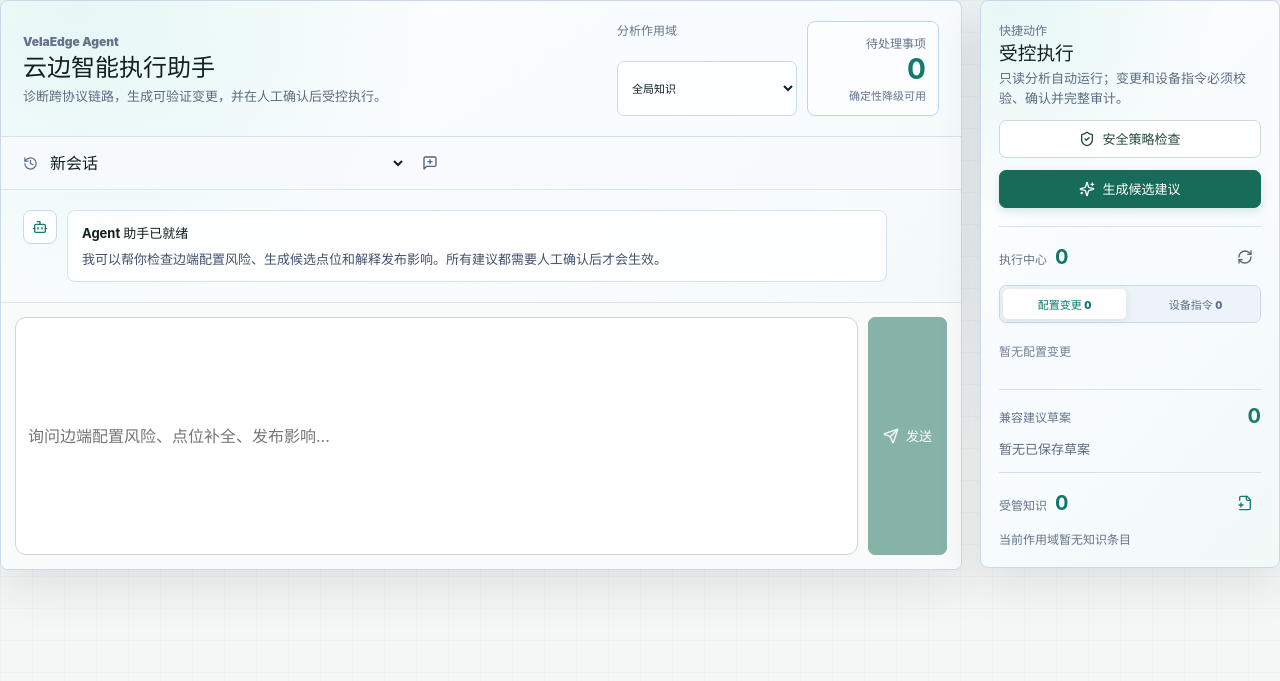
Test case: AgentAssistantPage › saves suggestions as governed proposals and reviews without publishing
The image size is (1280, 681).
Click the button "生成候选建议": point(1130, 190) [999,170,1261,208]
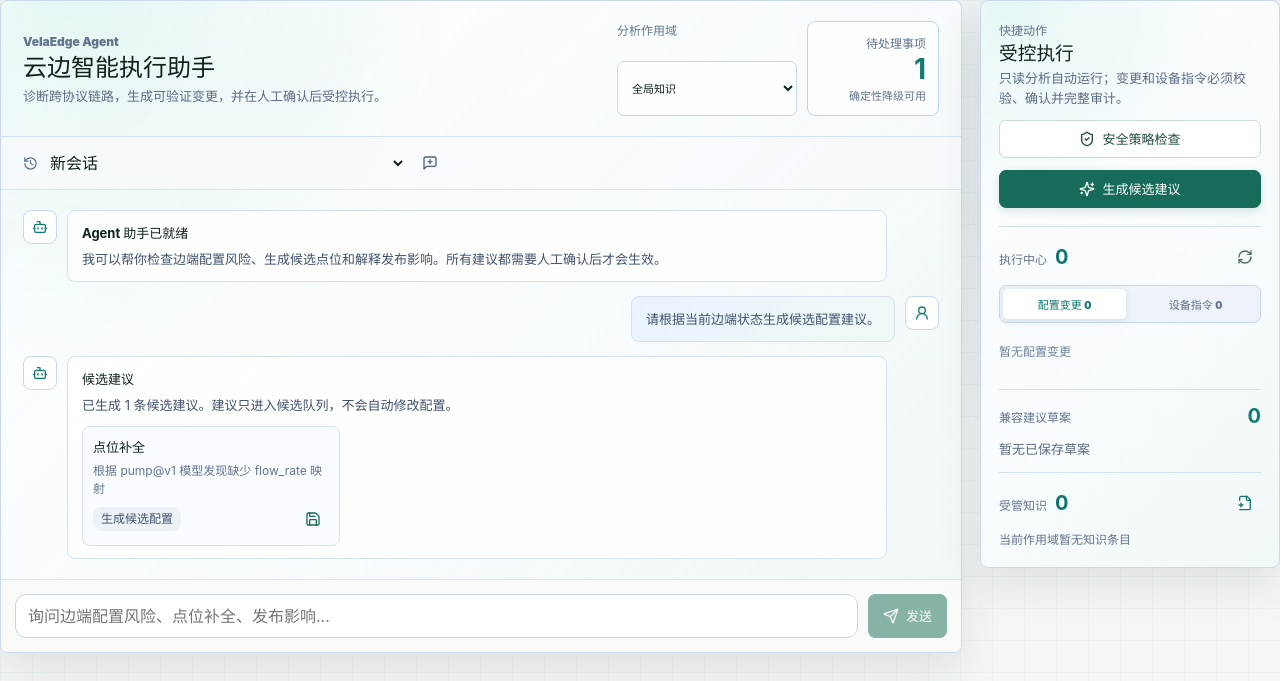
Click the button named "保存 点位补全 为审核草案": point(313, 519) [297,503,329,535]
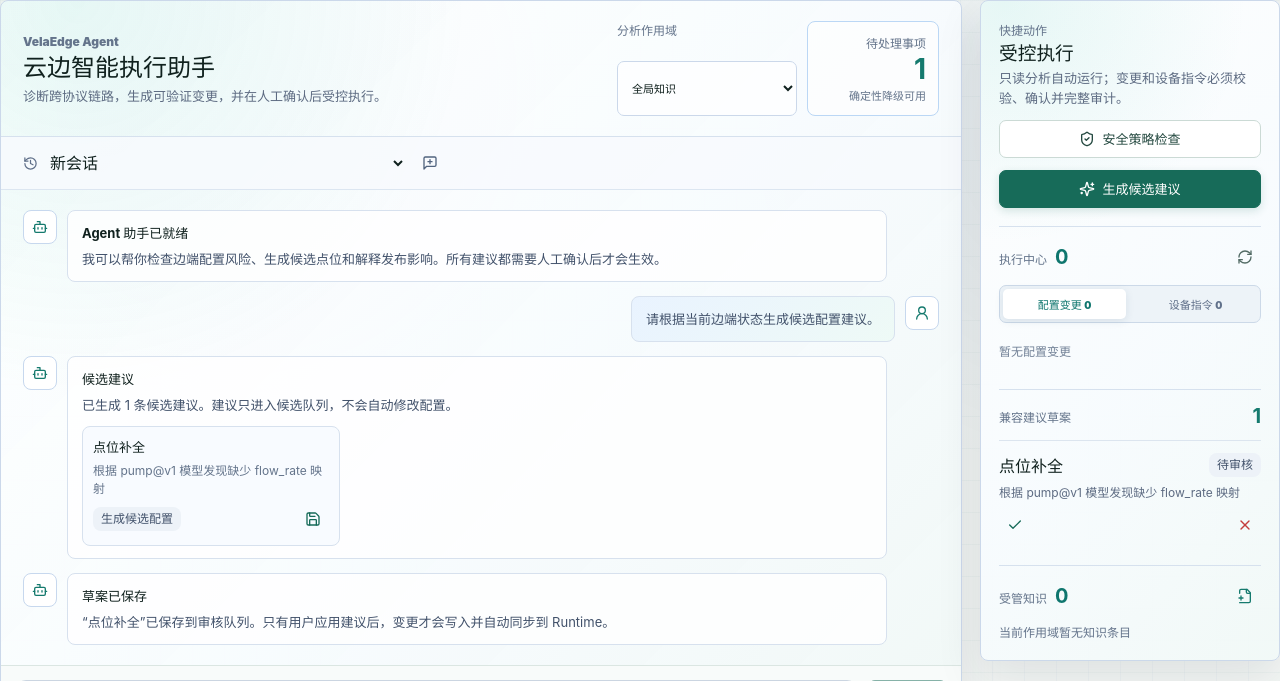
Result: the text "草案已保存" is shown at [82,588,147,604]
Result: the text "待审核" is shown at [1209,454,1261,478]
Click the button named "通过 点位补全": point(1015, 525) [999,509,1031,541]
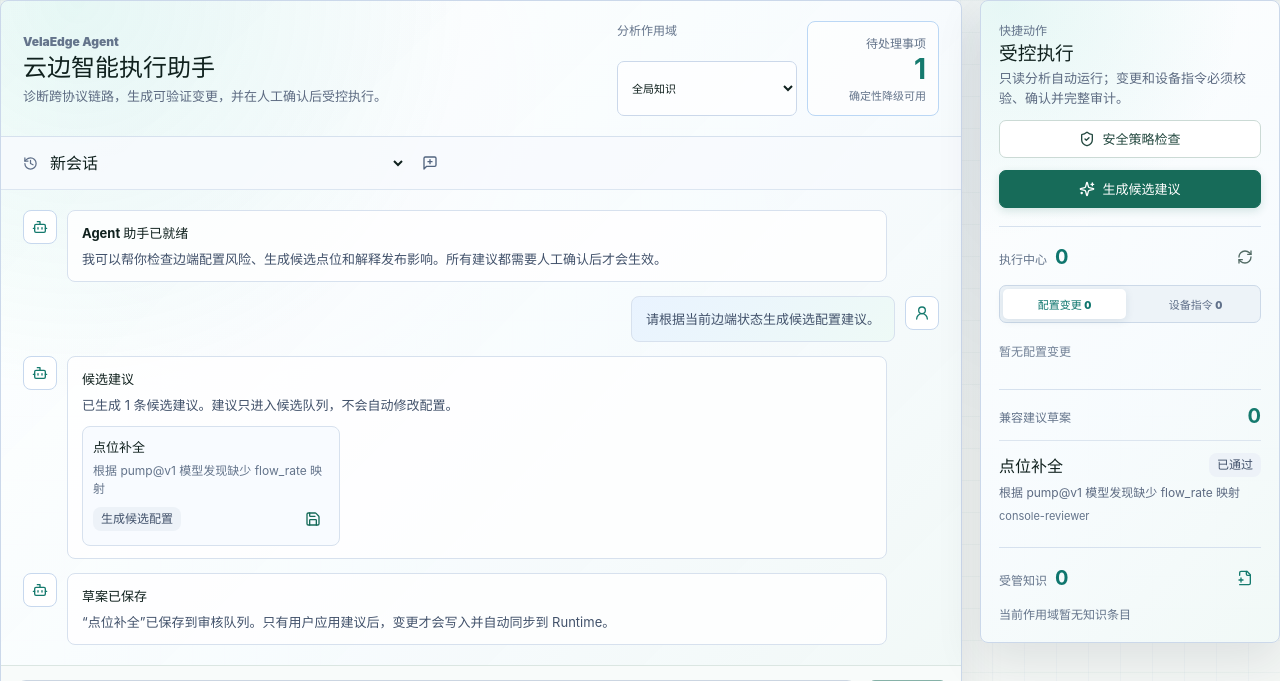
Result: the text "已通过" is shown at [1209,454,1261,478]
Result: the text "console-reviewer" is shown at [999,509,1090,523]
